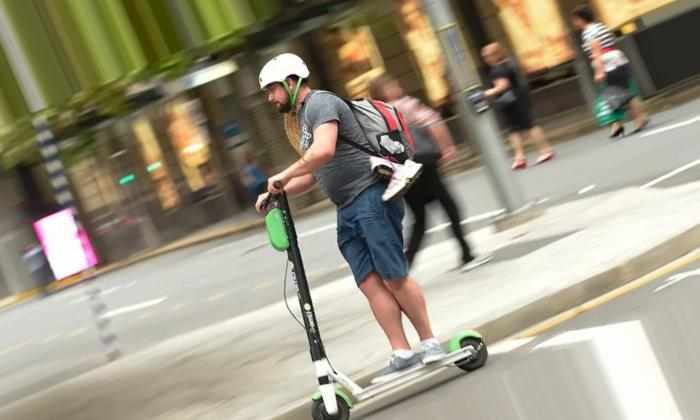scooter: (257, 181, 491, 420)
with helmet: (257, 50, 312, 112)
